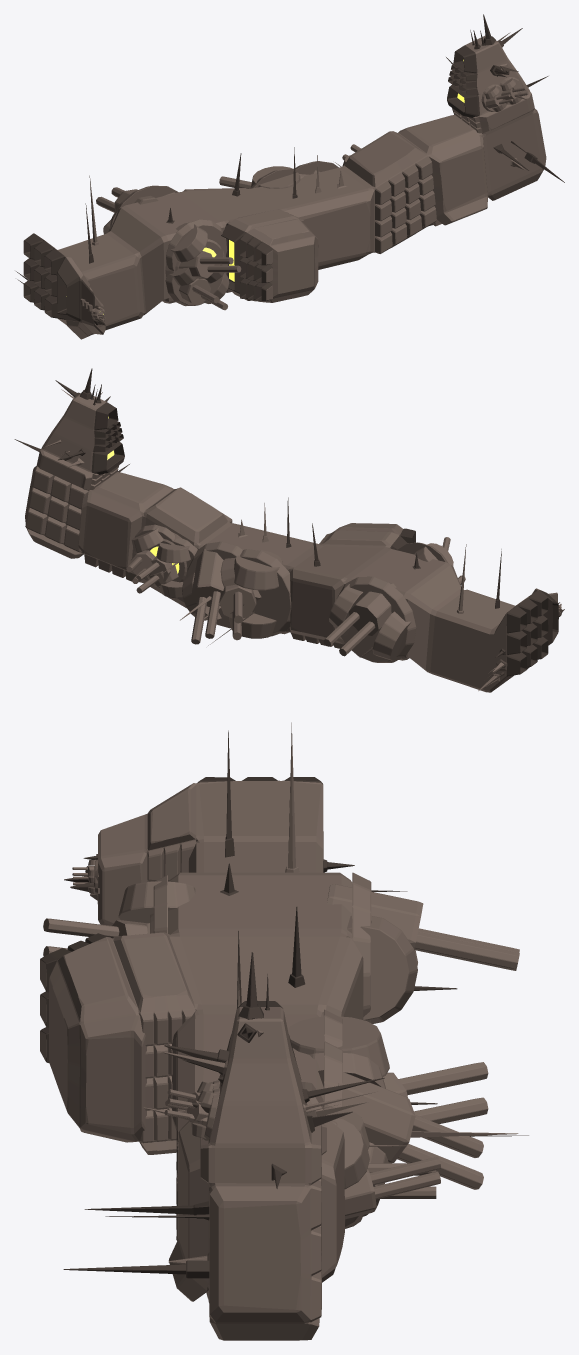
File: vais5.fbx
3 renders of one model, top to bottom at view 1: azimuth 30°, elevation 25°; view 2: azimuth 150°, elevation 25°; view 3: azimuth 270°, elevation 25°, orthographic. The views are drawn at different scales.
Parts seen in each view (by area): view 1: Spaceship; view 2: Spaceship; view 3: Spaceship.
Boxes of the visible parts, x1=… form: Spaceship: x1=16, y1=14, x2=564, y2=339; Spaceship: x1=14, y1=368, x2=564, y2=692; Spaceship: x1=40, y1=722, x2=528, y2=1340.
Bounding box in the file's own units: 750 × 295 × 314.
